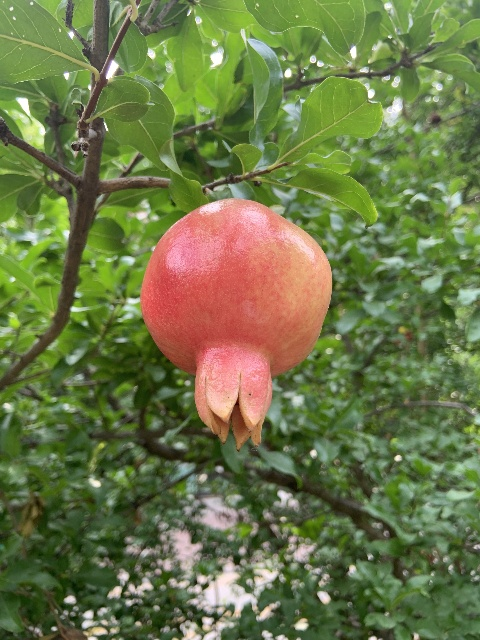ripe: (140, 198, 332, 452)
